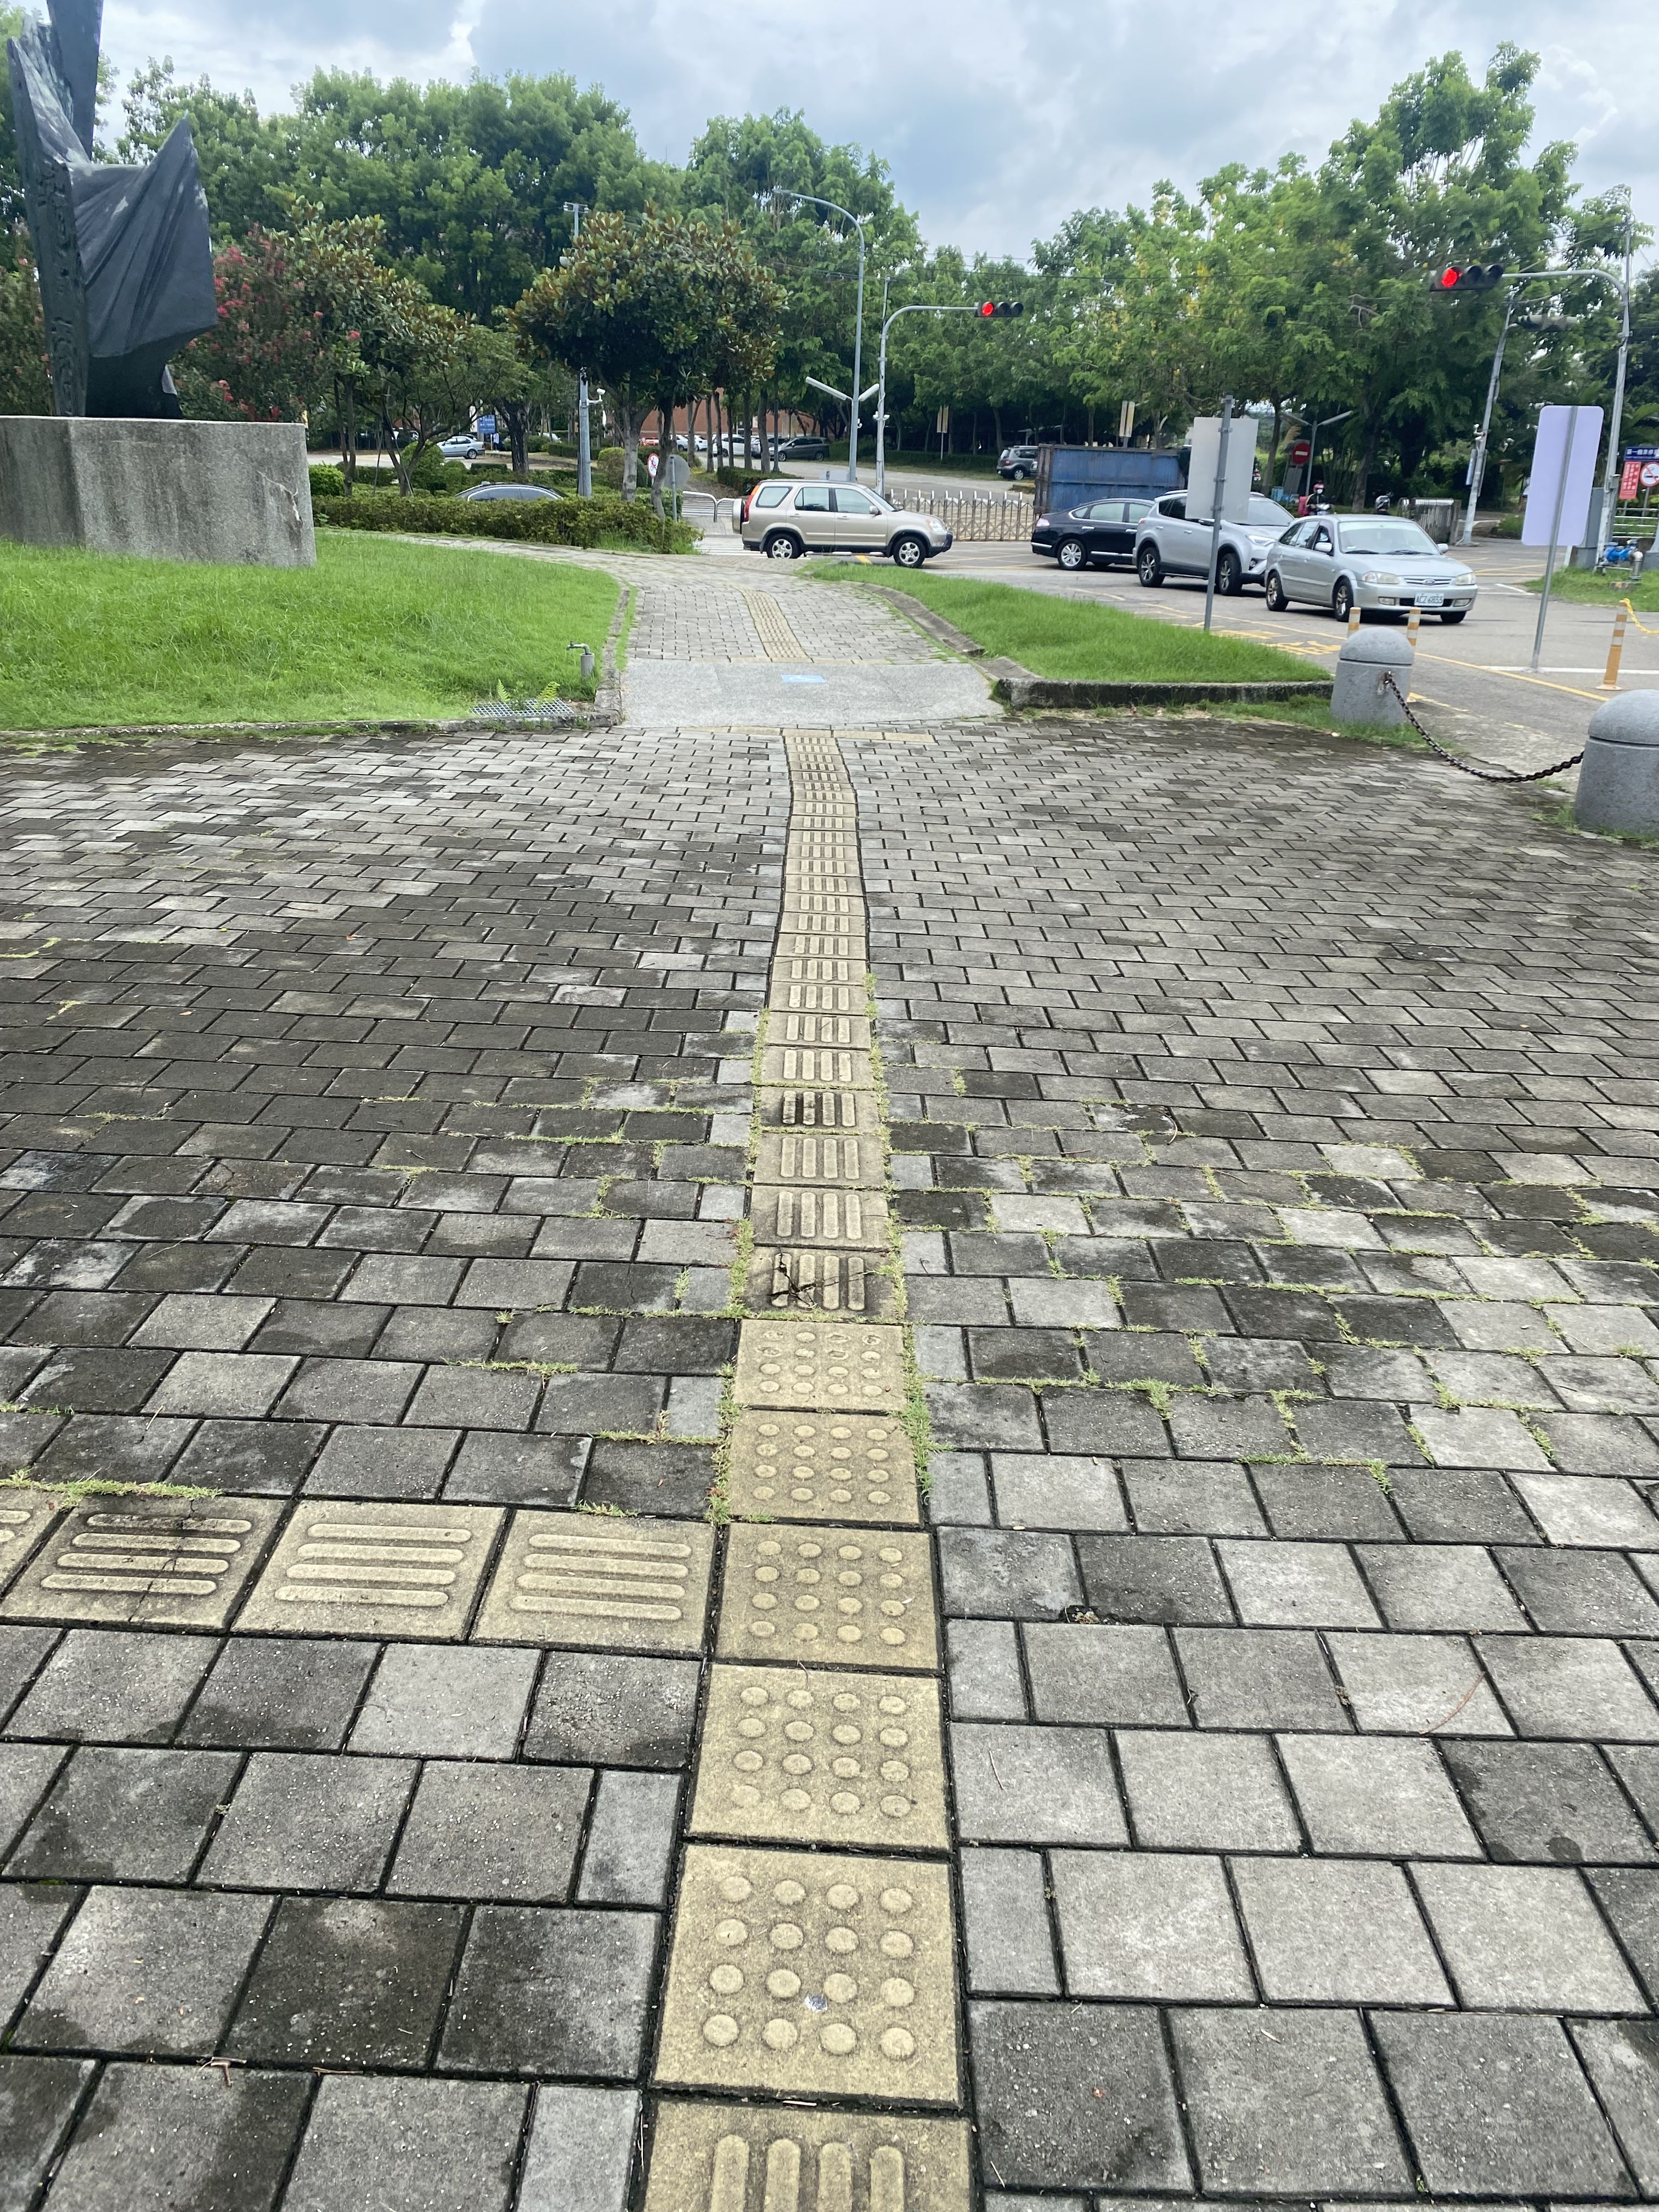0: (458, 505, 1157, 803)
sidewalk: (7, 721, 1659, 2212)
